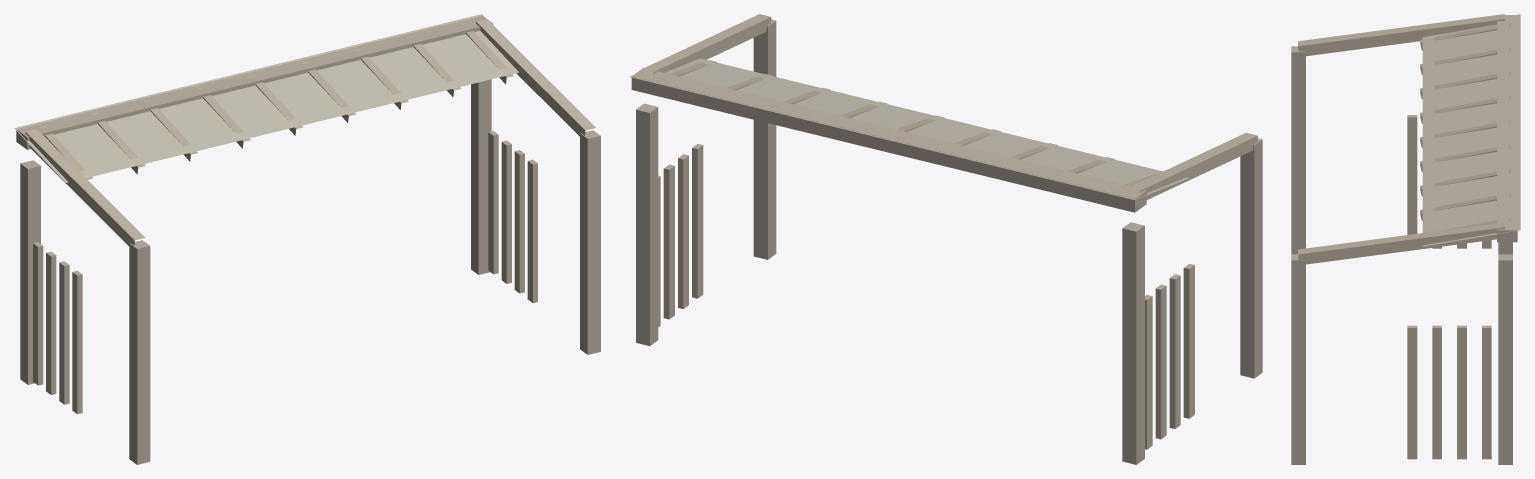
The model's file is learningCanopy.glb.
3 views of the same model, side by side, from view 1: azimuth 30°, elevation 25°; view 2: azimuth 150°, elevation 25°; view 3: azimuth 270°, elevation 25° (orthographic). The views are drawn at different scales.
Parts seen in each view (by area): view 1: learningCanopy; view 2: learningCanopy; view 3: learningCanopy.
Part boxes in pixels (left/top/right/bottom): learningCanopy: left=14, top=14, right=600, bottom=464; learningCanopy: left=629, top=14, right=1262, bottom=464; learningCanopy: left=1291, top=14, right=1520, bottom=464.
Size of the model in its own units: 13.6 by 6.96 by 6.1.
